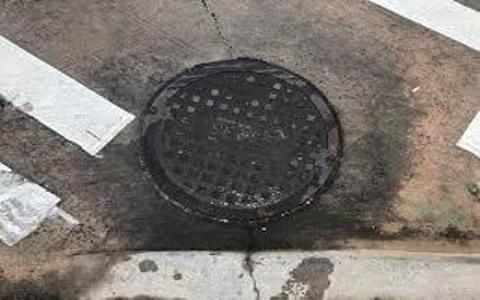proper manhole: (137, 52, 344, 225)
